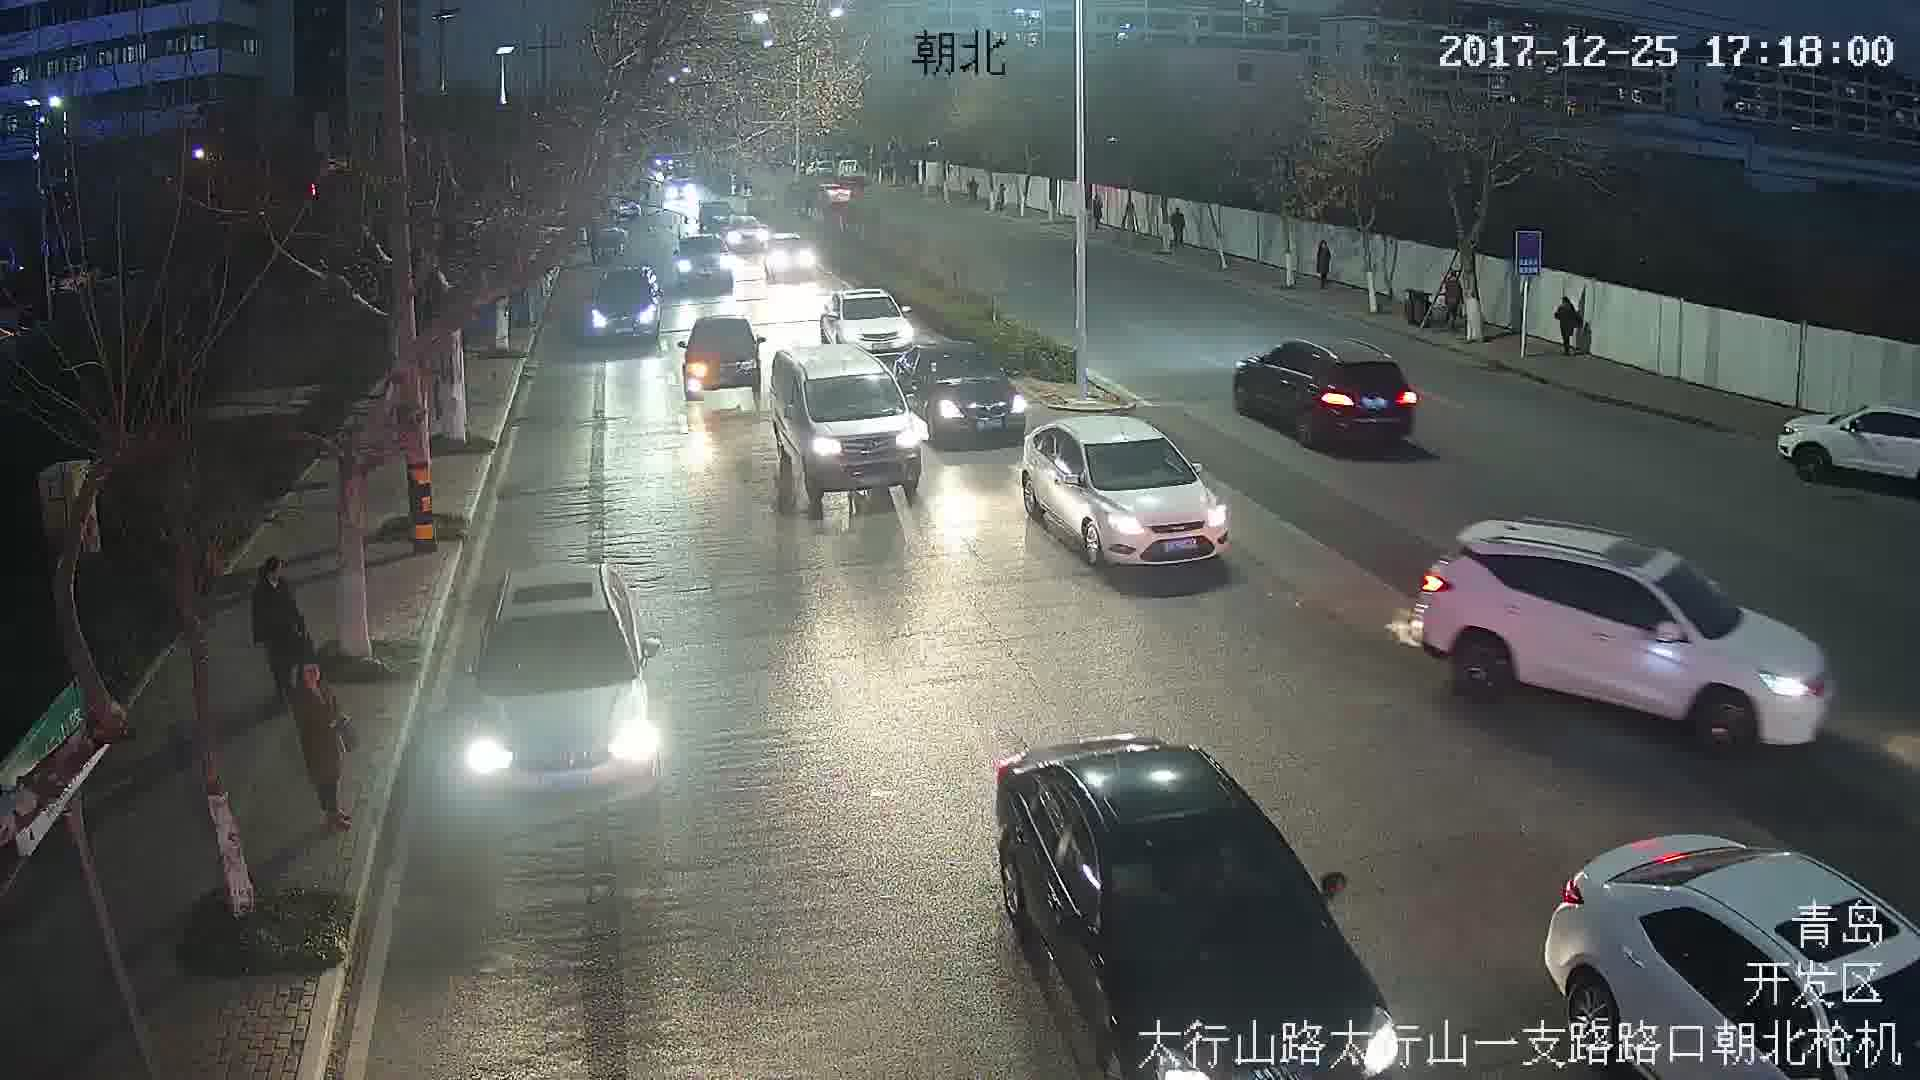car: (1420, 531, 1834, 750), (473, 569, 663, 812), (1027, 421, 1230, 578), (777, 344, 921, 500), (1239, 342, 1425, 453), (905, 337, 1034, 439), (675, 313, 760, 407), (587, 260, 671, 349), (827, 289, 914, 352), (675, 244, 735, 294)
person: (287, 666, 360, 827), (257, 566, 313, 692), (1555, 298, 1581, 355), (1313, 242, 1335, 282)
